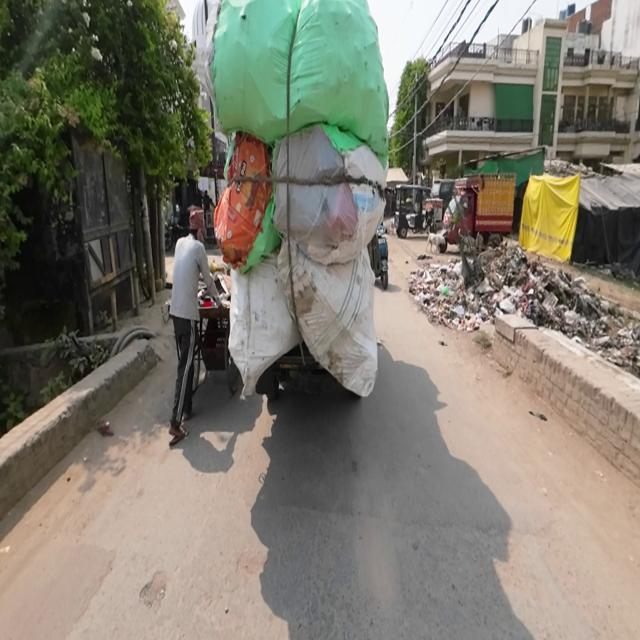Garbage: (416, 247, 625, 324)
